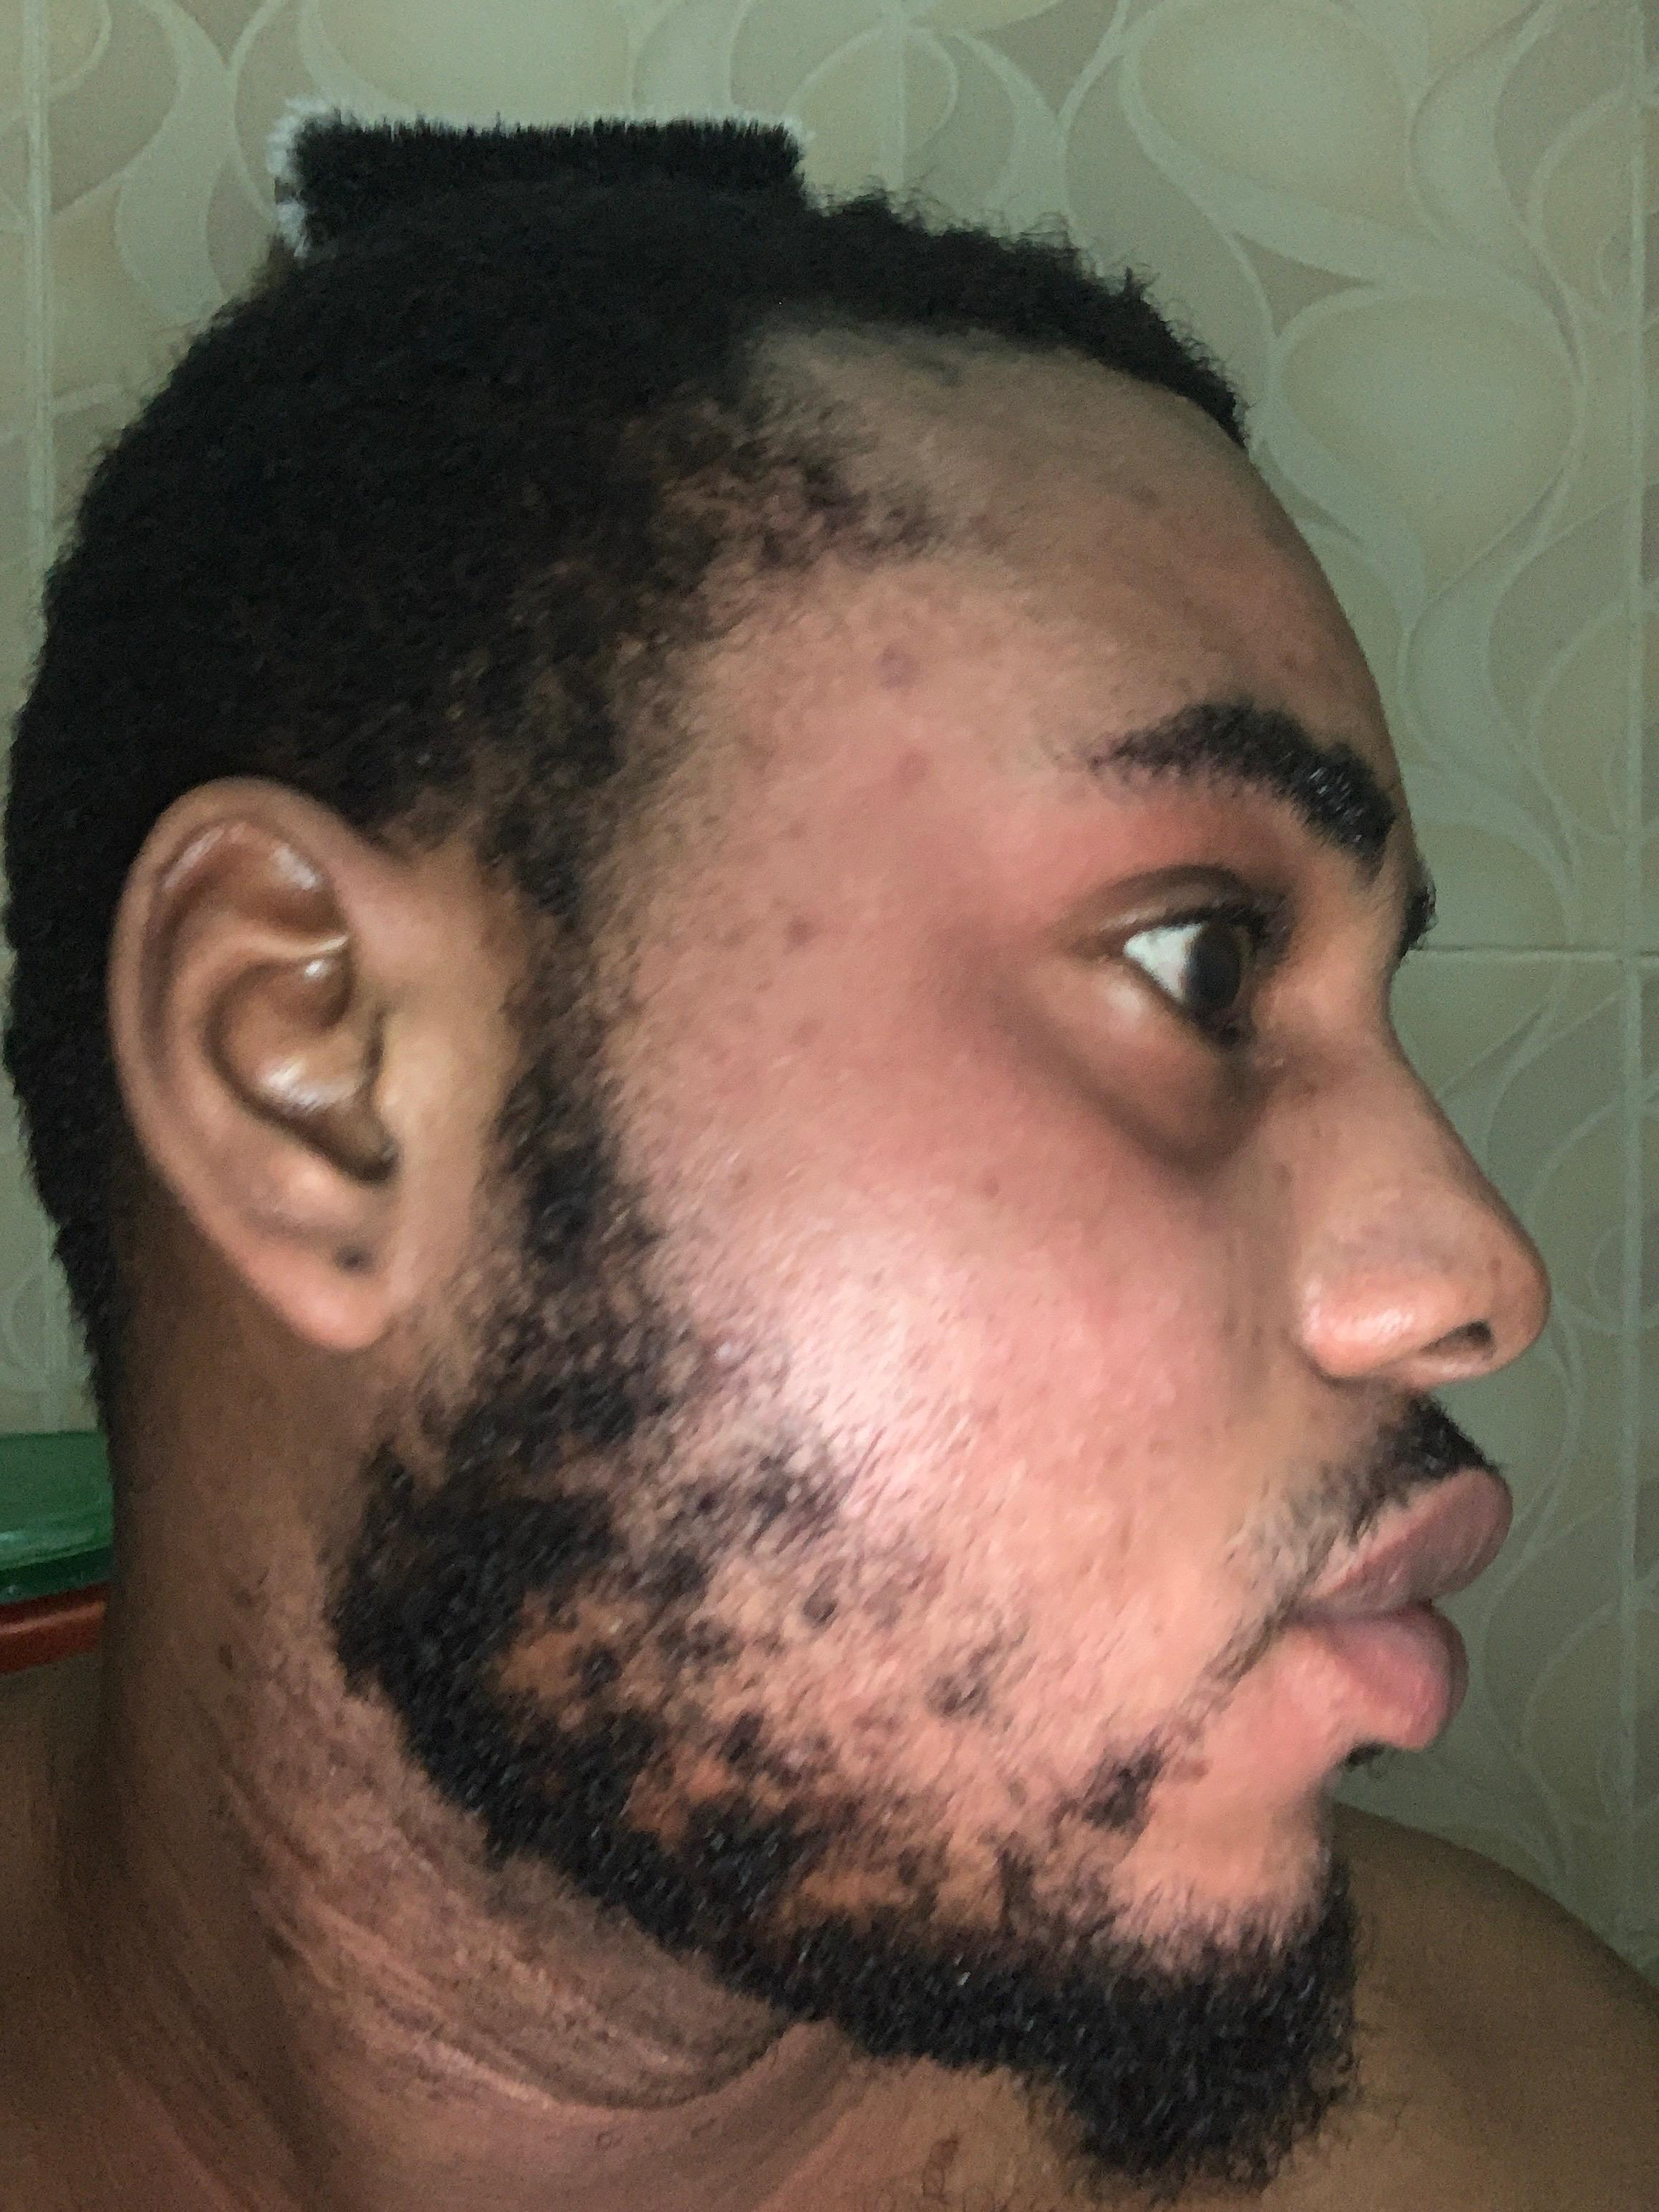Acne: (702, 899, 831, 963), (1272, 617, 1359, 707), (877, 740, 945, 805), (946, 502, 1021, 557), (870, 625, 925, 698), (892, 350, 979, 392), (725, 721, 786, 777), (1093, 477, 1185, 514), (767, 1003, 823, 1062), (713, 1148, 765, 1207), (960, 1160, 1007, 1214), (1209, 1294, 1256, 1346), (1243, 523, 1295, 566), (1258, 1158, 1305, 1202), (1480, 1242, 1520, 1291), (1295, 1073, 1324, 1108)
Englarged-Pores: (887, 1271, 1211, 1536)
